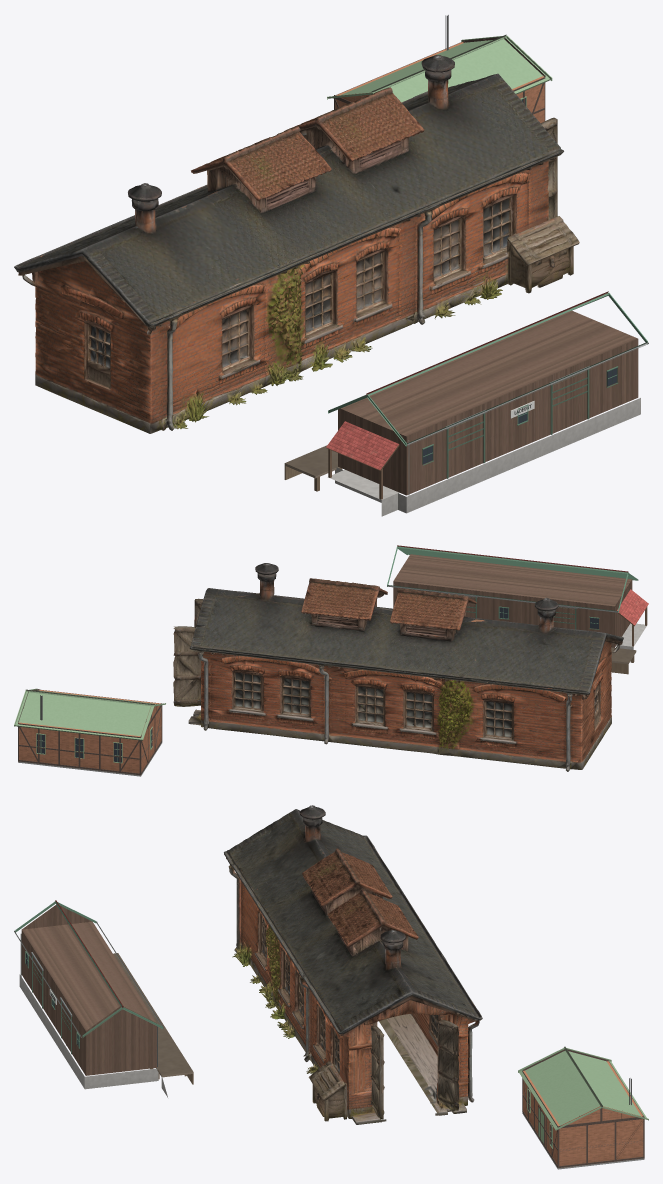
File: railway_service_buildings.glb
3 views of the same model, one above another, from view 1: azimuth 30°, elevation 25°; view 2: azimuth 150°, elevation 25°; view 3: azimuth 270°, elevation 25° (orthographic). The views are drawn at different scales.
Parts seen in each view (by area): view 1: S1_Rimessa, S2_Magazzino_merci, S3_Officina; view 2: S1_Rimessa, S2_Magazzino_merci, S3_Officina; view 3: S1_Rimessa, S2_Magazzino_merci, S3_Officina.
Boxes of the visible parts, <box> form: S1_Rimessa: <box>14,55,579,433</box>; S2_Magazzino_merci: <box>284,291,648,516</box>; S3_Officina: <box>327,15,552,123</box>; S1_Rimessa: <box>173,563,623,771</box>; S2_Magazzino_merci: <box>387,545,648,674</box>; S3_Officina: <box>14,688,165,776</box>; S1_Rimessa: <box>224,805,482,1124</box>; S2_Magazzino_merci: <box>14,900,193,1097</box>; S3_Officina: <box>518,1046,648,1169</box>.
Bounding box in the file's own units: 0.2291 × 0.0689 × 0.2505.
Materials: 3 (3 with a texture image).
